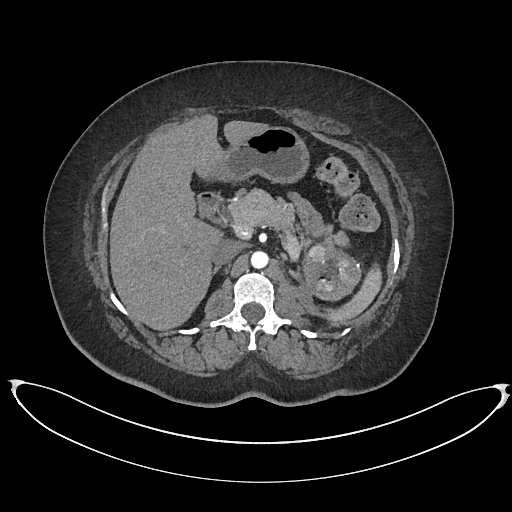Lesion: (306, 241, 329, 265)
